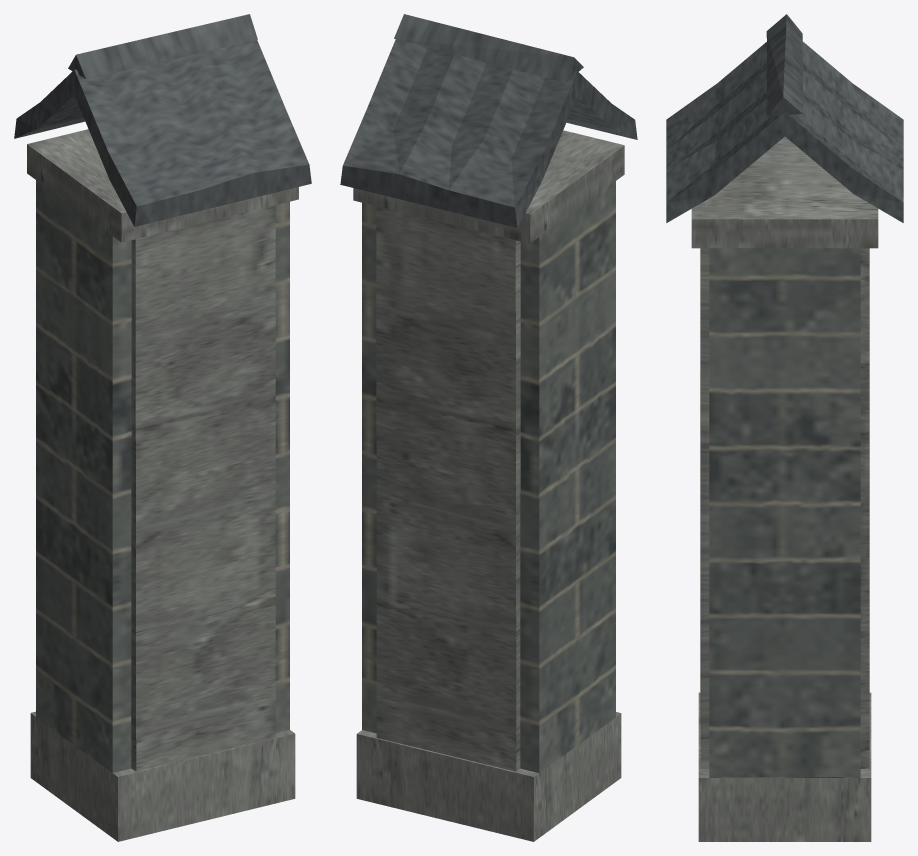
Rendered from WallEnd_LOD2.fbx.
3 views of the same model, side by side, from view 1: azimuth 30°, elevation 25°; view 2: azimuth 150°, elevation 25°; view 3: azimuth 270°, elevation 25° (orthographic).
Visible parts, largest first — view 1: WallEnd.001; view 2: WallEnd.001; view 3: WallEnd.001.
Part boxes in pixels (x1,y1,x2,y2): WallEnd.001: (14,14,311,841); WallEnd.001: (340,14,637,841); WallEnd.001: (666,14,903,841).
Bounding box in the file's own units: 0.4 × 1.62 × 0.47.
1 material, 1 textured.
